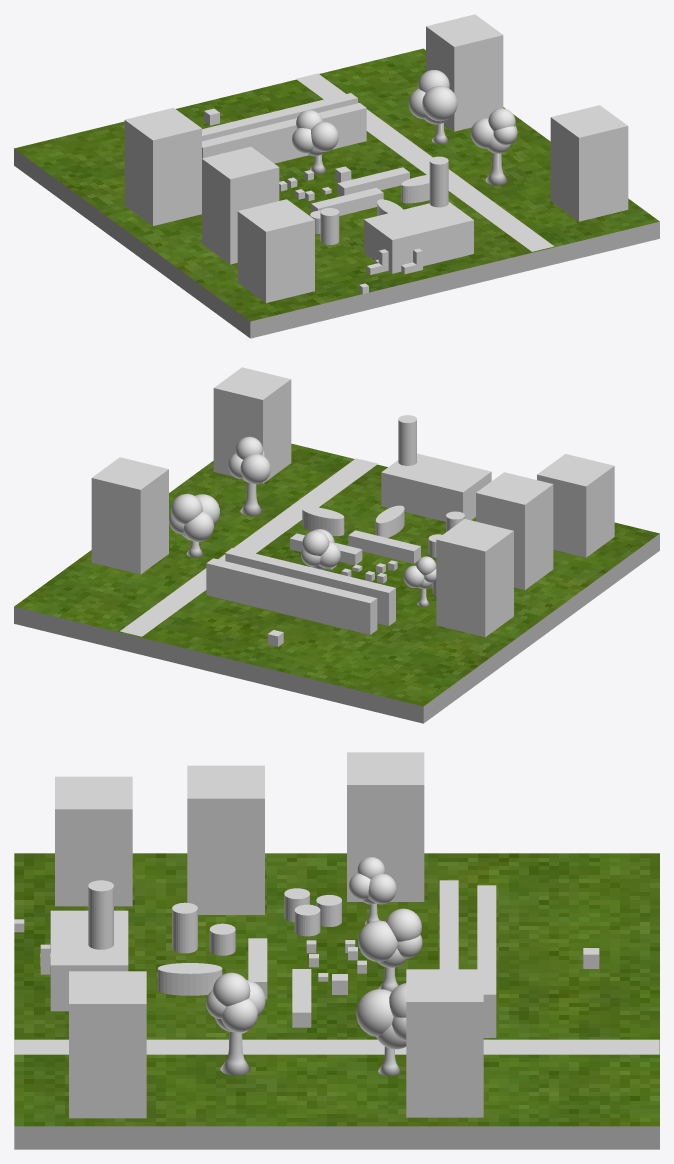
Rendered from map_2.dae.
3 views of the same model, one above another, from view 1: azimuth 30°, elevation 25°; view 2: azimuth 150°, elevation 25°; view 3: azimuth 270°, elevation 25° (orthographic). The views are drawn at different scales.
Parts seen in each view (by area): view 1: Cube_031, Cube, Cube_008, Cube_012, Cube_010, Cube_007, Cube_009, Cube_011, Plane_001, Cube_026, Cylinder_012, Cube_025 (+7 smaller); view 2: Cube_031, Cube, Cube_008, Cube_007, Cube_025, Cube_012, Cube_010, Cube_009, Cube_011, Plane_001, Cube_026, Cylinder_012 (+8 smaller); view 3: Cube_031, Cube, Cube_007, Cube_009, Cube_012, Cube_008, Cube_010, Plane_001, Cube_011, Cylinder_007, Cube_025, Cylinder_017 (+13 smaller).
Boxes of the visible parts, x1,y1,x2,y2 form: Cube_031: (14,48,659,321); Cube: (14,148,659,338); Cube_008: (124,107,201,225); Cube_012: (550,105,628,221); Cube_010: (237,199,314,302); Cube_007: (426,14,503,131); Cube_009: (202,146,279,264); Cube_011: (364,202,473,273); Plane_001: (296,73,553,251); Cube_026: (202,103,366,163); Cylinder_012: (408,70,457,124); Cube_025: (202,93,357,141); Cube_031: (14,443,659,706); Cube: (14,534,659,723); Cube_008: (436,519,513,637); Cube_007: (91,457,168,574); Cube_025: (206,558,377,634); Cube_012: (213,367,291,483); Cube_010: (537,454,614,557); Cube_009: (476,472,553,589); Cube_011: (381,453,491,521); Plane_001: (120,458,377,636); Cube_026: (225,548,395,625); Cylinder_012: (169,494,219,541); Cube_031: (14,853,659,1126); Cube: (14,1126,659,1149); Cube_007: (406,969,483,1117); Cube_009: (187,765,264,914); Cube_012: (69,971,146,1118); Cube_008: (347,752,424,901); Cube_010: (55,776,132,906); Plane_001: (14,1039,659,1054); Cube_011: (50,910,128,1011); Cylinder_007: (358,908,422,967); Cube_025: (477,885,496,1037); Cylinder_017: (206,972,265,1032).
Bounding box in the file's own units: 50 × 50.02 × 12.03.
